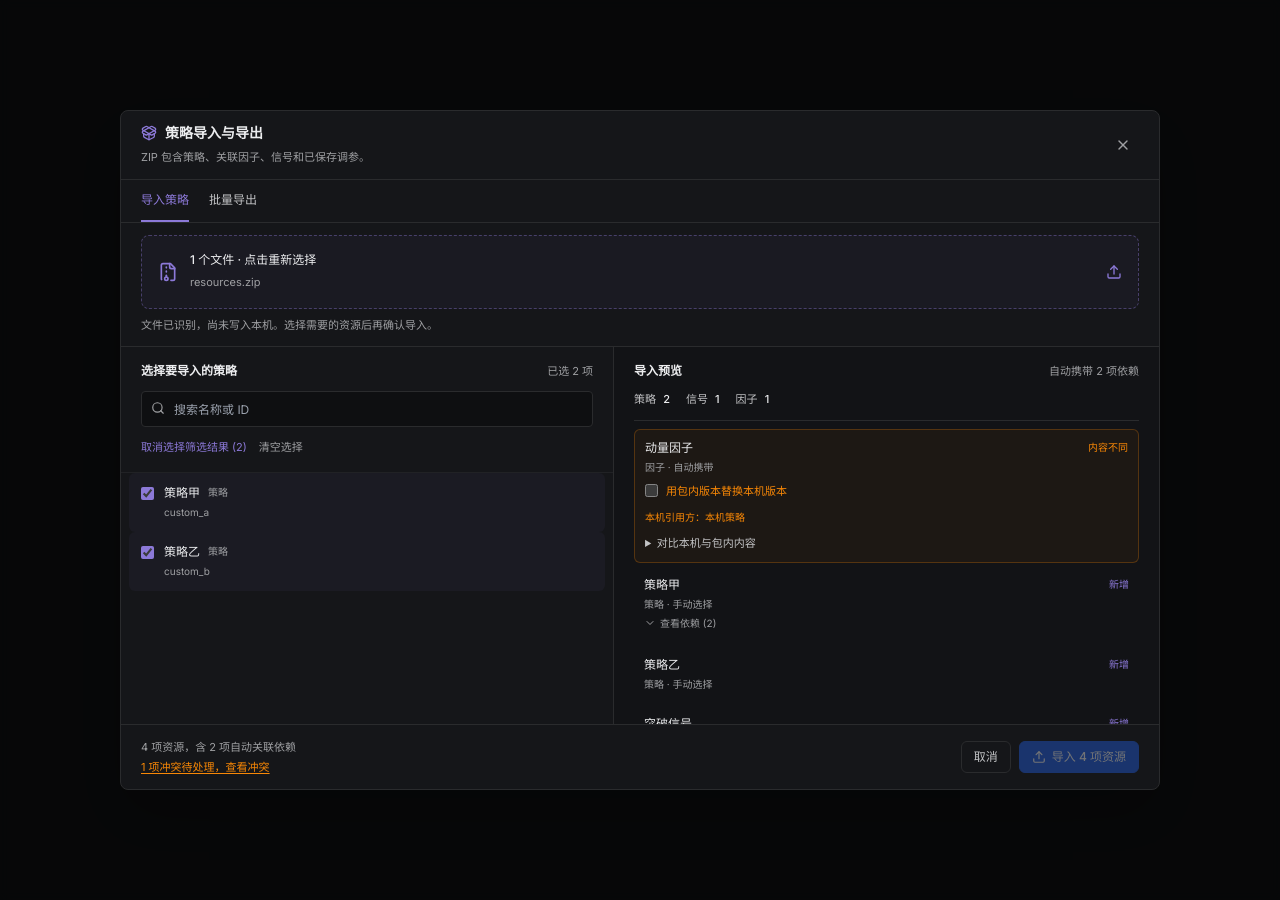
Test case: different content blocks import until each selected conflict is explicitly confirmed
Earlier steps of the test are not shown.
Later steps or results of the test are not shown.
Expected: the button "导入 4 项资源" is disabled, [1019, 741, 1139, 773]
Click the checkbox labelled "用包内版本替换本机版本". click: x=652, y=491
box: [645, 484, 658, 497]
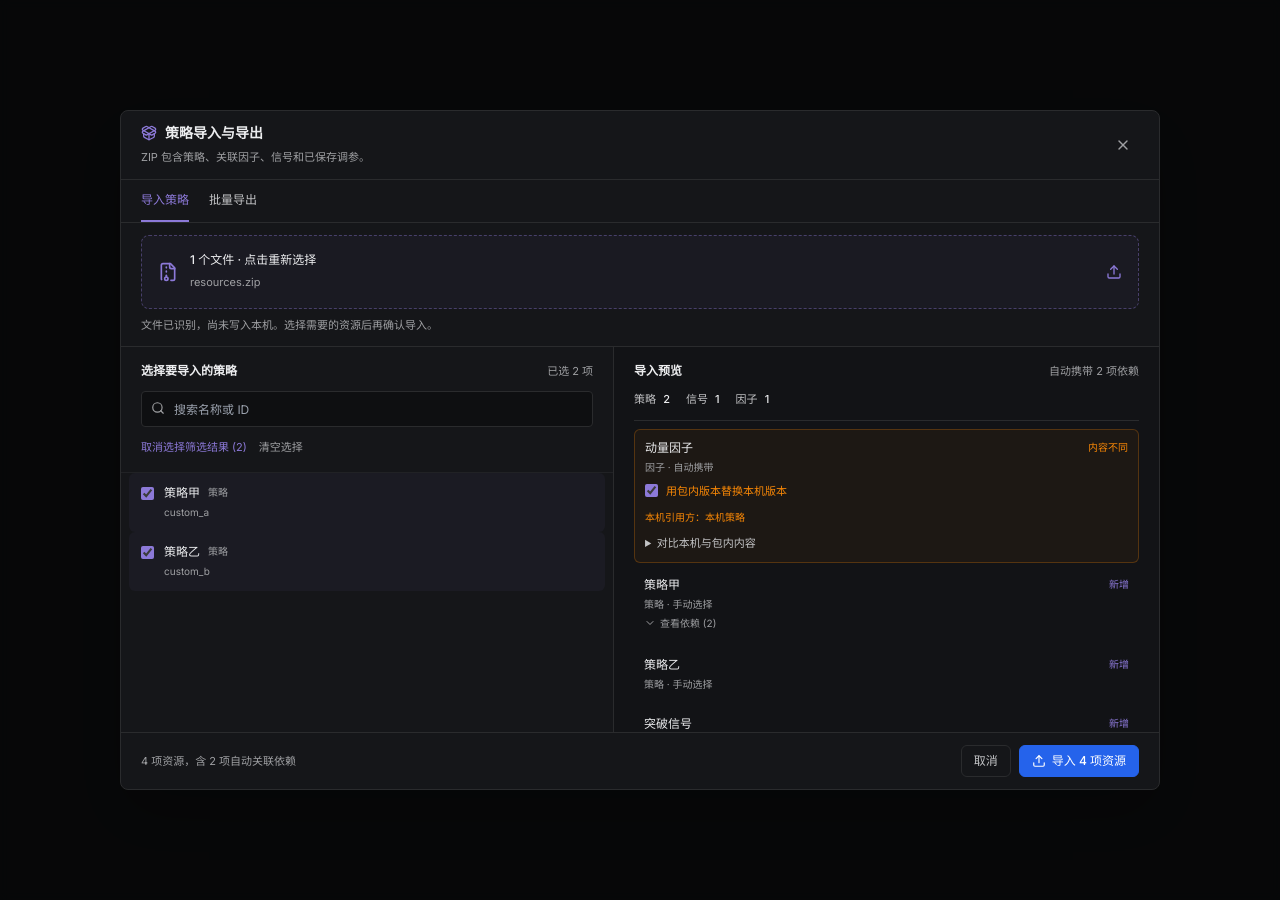
Result: the button "导入 4 项资源" is enabled at [1019, 745, 1139, 777]
